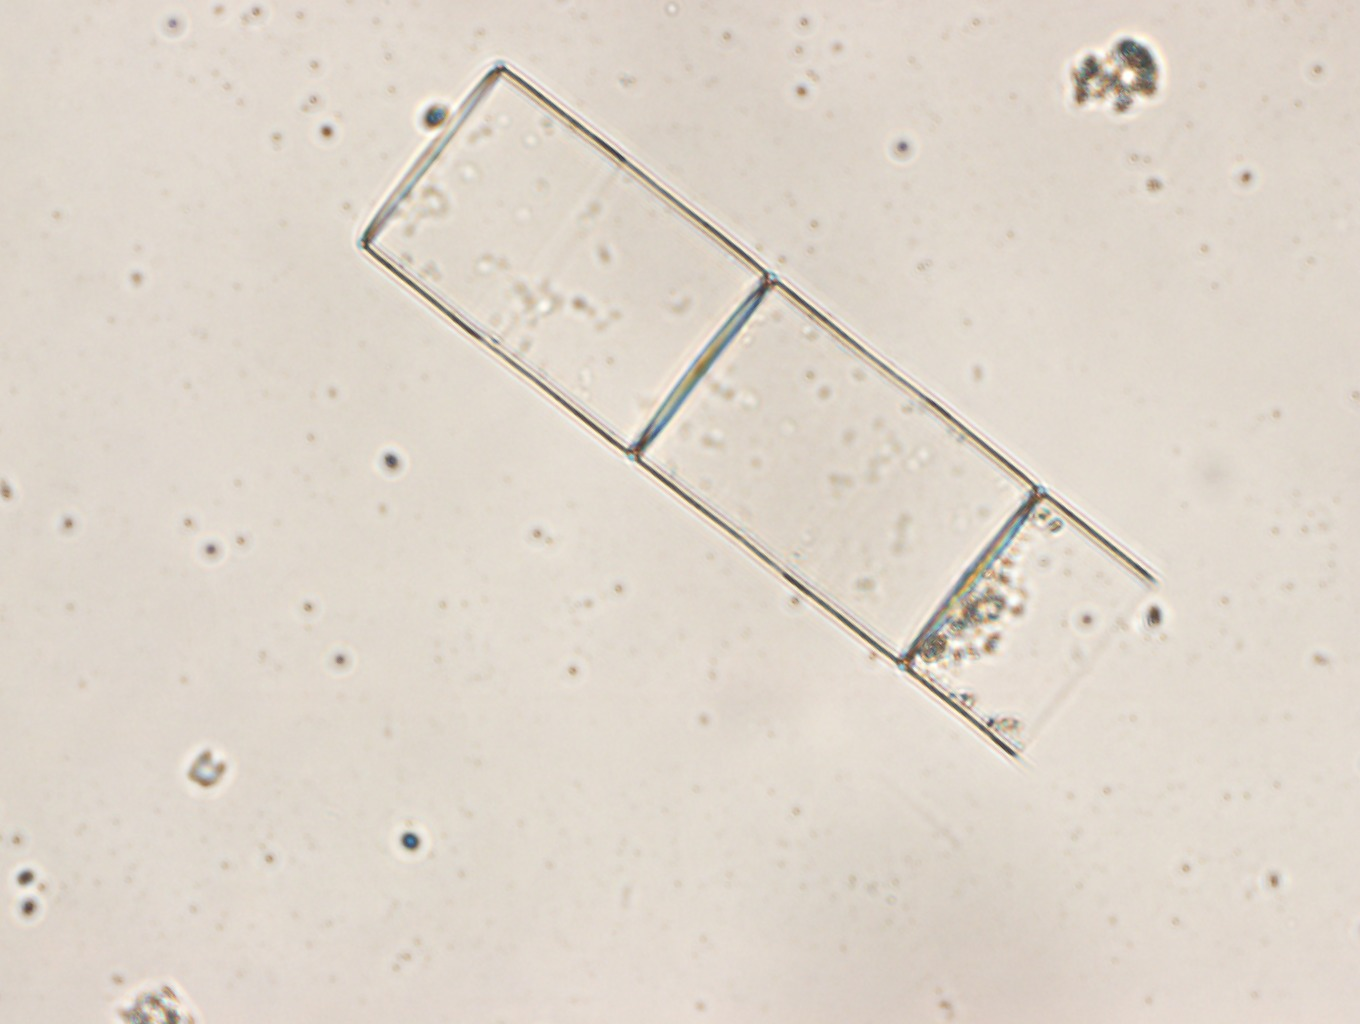guinardia flaccida: (360, 63, 1156, 762)
